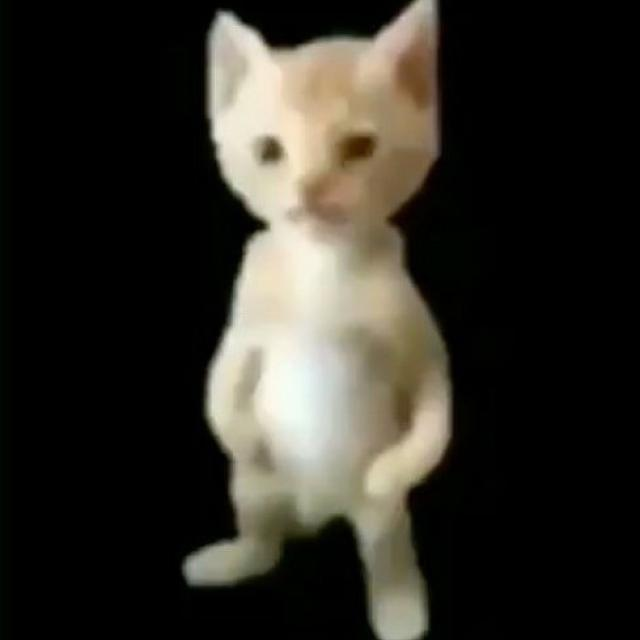cat: (174, 0, 469, 640)
